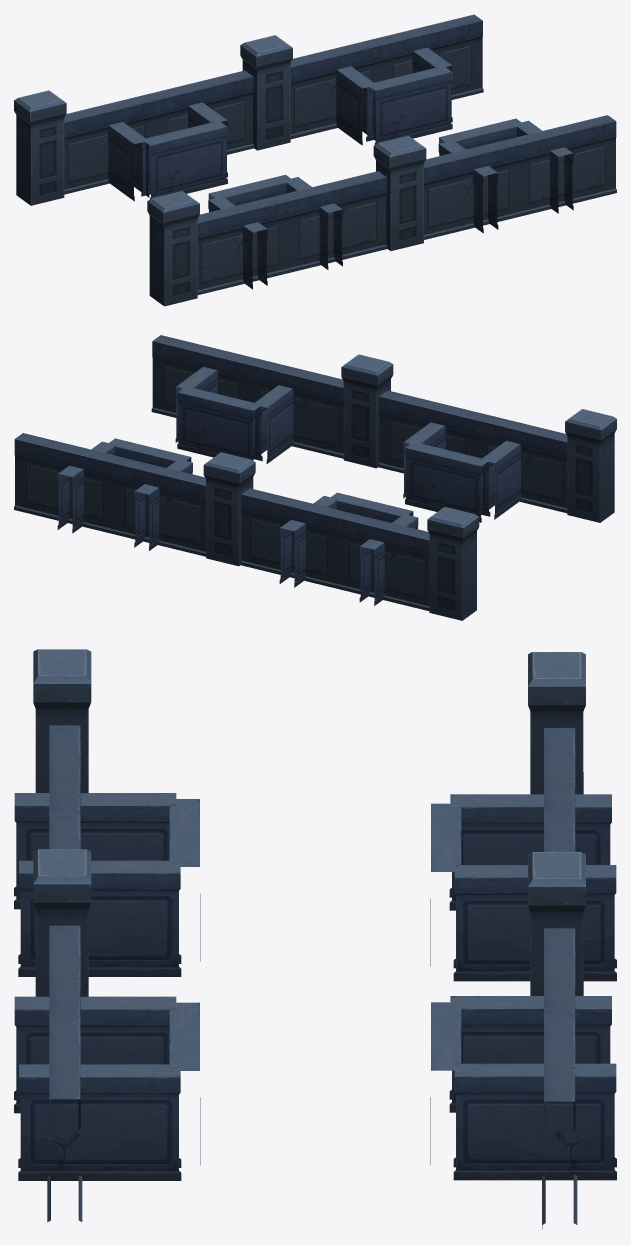
File: Area_11_5.fbx
The picture shows the model from 3 angles, top to bottom: view 1: azimuth 30°, elevation 25°; view 2: azimuth 150°, elevation 25°; view 3: azimuth 270°, elevation 25°; orthographic projection. The views are drawn at different scales.
Visible parts, largest first — view 1: Area_11_5; view 2: Area_11_5; view 3: Area_11_5.
Boxes of the visible parts, x1,y1,x2,y2 form: Area_11_5: (14,14,616,306); Area_11_5: (14,335,616,620); Area_11_5: (14,649,616,1229).
Bounding box in the file's own units: 3174 × 642 × 1985.
